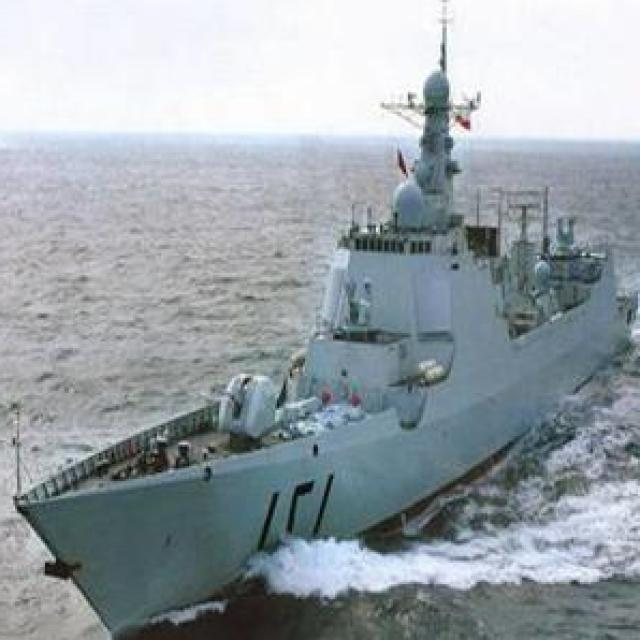navalvessels: (24, 49, 629, 640)
